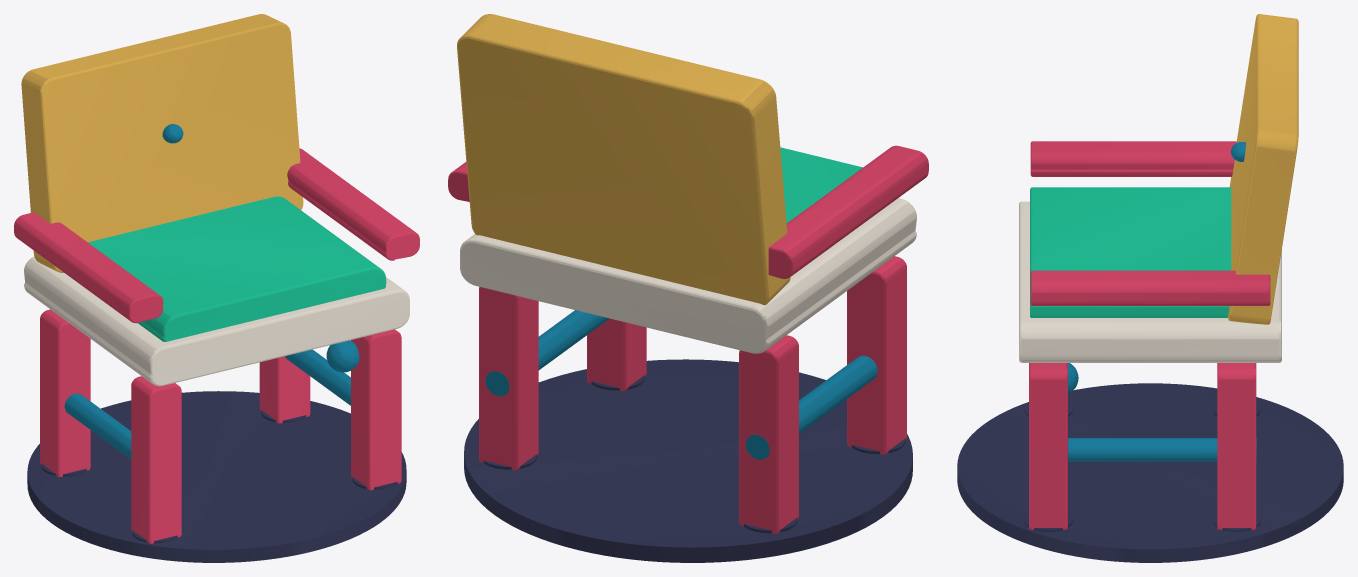
File: 1350_城市运转图鉴_滚筒筛.glb
3 renders of one model, left to right at view 1: azimuth 30°, elevation 25°; view 2: azimuth 150°, elevation 25°; view 3: azimuth 270°, elevation 25°, orthographic. The views are drawn at different scales.
Visible parts, largest first — view 1: card_1350; view 2: card_1350; view 3: card_1350.
Part boxes in pixels (x1,y1,x2,y2): card_1350: (14,14,419,562); card_1350: (448,14,928,562); card_1350: (957,14,1343,562).
Bounding box in the file's own units: 0.8694 × 1 × 0.8544.
